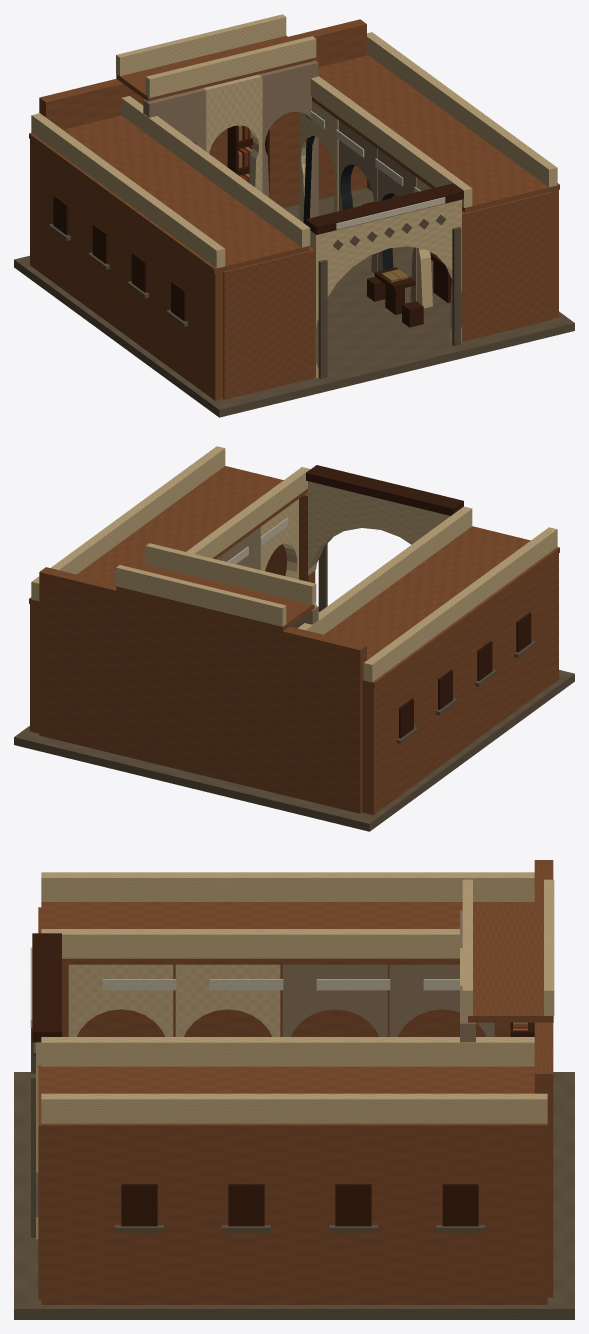
Rendered from Berber_University_Age4.fbx.
3 views of the same model, one above another, from view 1: azimuth 30°, elevation 25°; view 2: azimuth 150°, elevation 25°; view 3: azimuth 270°, elevation 25° (orthographic). The views are drawn at different scales.
Parts seen in each view (by area): view 1: west_outer_wall, scholar_court_foundation, west_gallery_roof, front_enclosure, east_gallery_roof, front_enclosure.001, library_rear_wall, carved_main_portal, west_parapet.001, east_parapet.001, west_parapet, library_open_reading_bay.002 (+20 smaller); view 2: library_rear_wall, west_outer_wall, west_gallery_roof, scholar_court_foundation, east_gallery_roof, carved_main_portal, west_parapet.001, east_parapet.001, west_parapet, library_roof_parapet, library_roof_parapet.001, portal_cedar_lintel (+10 smaller); view 3: east_outer_wall, east_gallery_roof, scholar_court_foundation, east_parapet.001, east_parapet, west_parapet.001, west_gallery_roof, west_parapet, library_roof, west_outer_wall, west_hollow_arcade, west_hollow_arcade.002 (+15 smaller).
Part boxes in pixels (x1=…): west_outer_wall: x1=30, y1=139, x2=223, y2=400; scholar_court_foundation: x1=14, y1=188, x2=574, y2=417; west_gallery_roof: x1=29, y1=115, x2=309, y2=273; front_enclosure: x1=223, y1=246, x2=315, y2=399; east_gallery_roof: x1=312, y1=54, x2=559, y2=212; front_enclosure.001: x1=461, y1=192, x2=551, y2=341; library_rear_wall: x1=39, y1=19, x2=366, y2=207; carved_main_portal: x1=309, y1=199, x2=461, y2=378; west_parapet.001: x1=31, y1=113, x2=225, y2=268; east_parapet.001: x1=367, y1=32, x2=557, y2=187; west_parapet: x1=121, y1=96, x2=310, y2=247; library_open_reading_bay.002: x1=259, y1=60, x2=318, y2=224; library_rear_wall: x1=39, y1=567, x2=366, y2=813; west_outer_wall: x1=362, y1=553, x2=558, y2=814; west_gallery_roof: x1=324, y1=526, x2=559, y2=687; scholar_court_foundation: x1=14, y1=670, x2=574, y2=831; east_gallery_roof: x1=29, y1=466, x2=307, y2=605; carved_main_portal: x1=308, y1=481, x2=450, y2=612; west_parapet.001: x1=363, y1=527, x2=557, y2=682; east_parapet.001: x1=31, y1=446, x2=225, y2=601; west_parapet: x1=297, y1=506, x2=472, y2=634; library_roof_parapet: x1=145, y1=543, x2=316, y2=604; library_roof_parapet.001: x1=116, y1=565, x2=286, y2=626; portal_cedar_lintel: x1=306, y1=465, x2=463, y2=515; east_outer_wall: x1=41, y1=1132, x2=547, y2=1304; east_gallery_roof: x1=41, y1=1066, x2=547, y2=1131; scholar_court_foundation: x1=14, y1=1072, x2=574, y2=1319; east_parapet.001: x1=41, y1=1093, x2=547, y2=1123; east_parapet: x1=41, y1=1037, x2=534, y2=1066; west_parapet.001: x1=41, y1=872, x2=534, y2=901; west_gallery_roof: x1=41, y1=902, x2=534, y2=964; west_parapet: x1=41, y1=929, x2=459, y2=958; library_roof: x1=468, y1=905, x2=553, y2=1022; west_outer_wall: x1=62, y1=964, x2=510, y2=1036; west_hollow_arcade: x1=68, y1=964, x2=173, y2=1036; west_hollow_arcade.002: x1=282, y1=964, x2=387, y2=1036.
Bounding box in the file's own units: 760 × 398 × 760.
8 materials, 8 textured.
